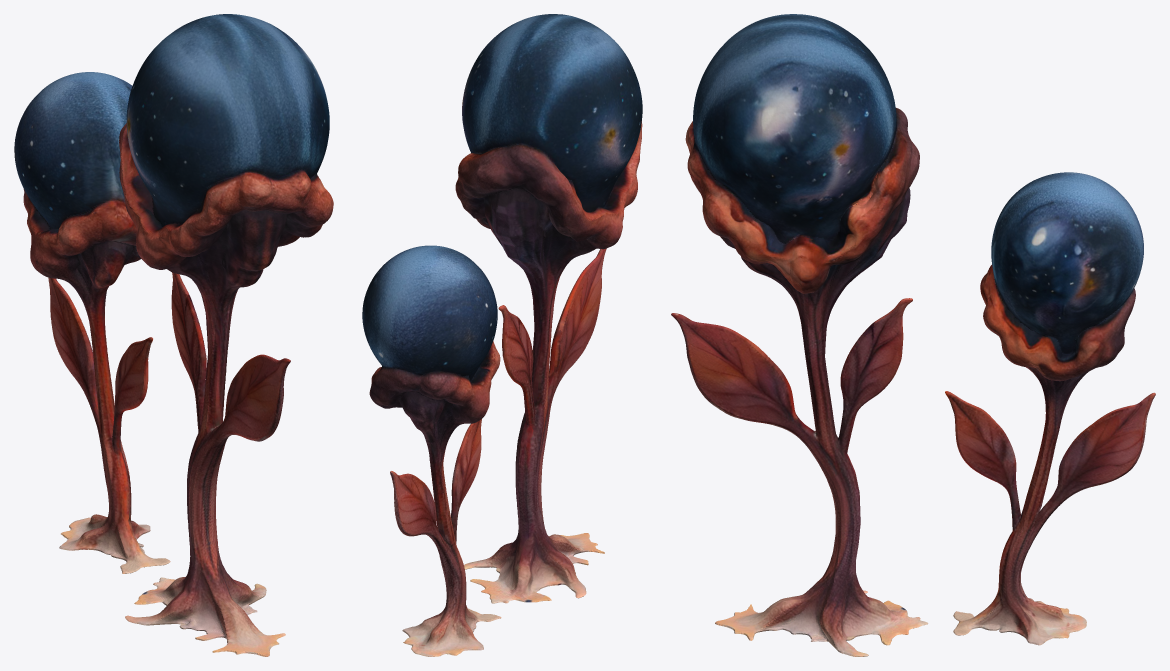
Rendered from Noctis Orb Bloom.glb.
3 renders of one model, left to right at view 1: azimuth 30°, elevation 25°; view 2: azimuth 150°, elevation 25°; view 3: azimuth 270°, elevation 25°, orthographic. The views are drawn at different scales.
Parts seen in each view (by area): view 1: tripo_node_070769dc-2be9-48d6-84cc-8d42424c7644; view 2: tripo_node_070769dc-2be9-48d6-84cc-8d42424c7644; view 3: tripo_node_070769dc-2be9-48d6-84cc-8d42424c7644.
Boxes of the visible parts, x1,y1,x2,y2 form: tripo_node_070769dc-2be9-48d6-84cc-8d42424c7644: [14, 14, 333, 656]; tripo_node_070769dc-2be9-48d6-84cc-8d42424c7644: [362, 14, 642, 656]; tripo_node_070769dc-2be9-48d6-84cc-8d42424c7644: [671, 14, 1155, 656].
Bounding box in the file's own units: 0.3032 × 1 × 0.7301.
1 material, 1 textured.
